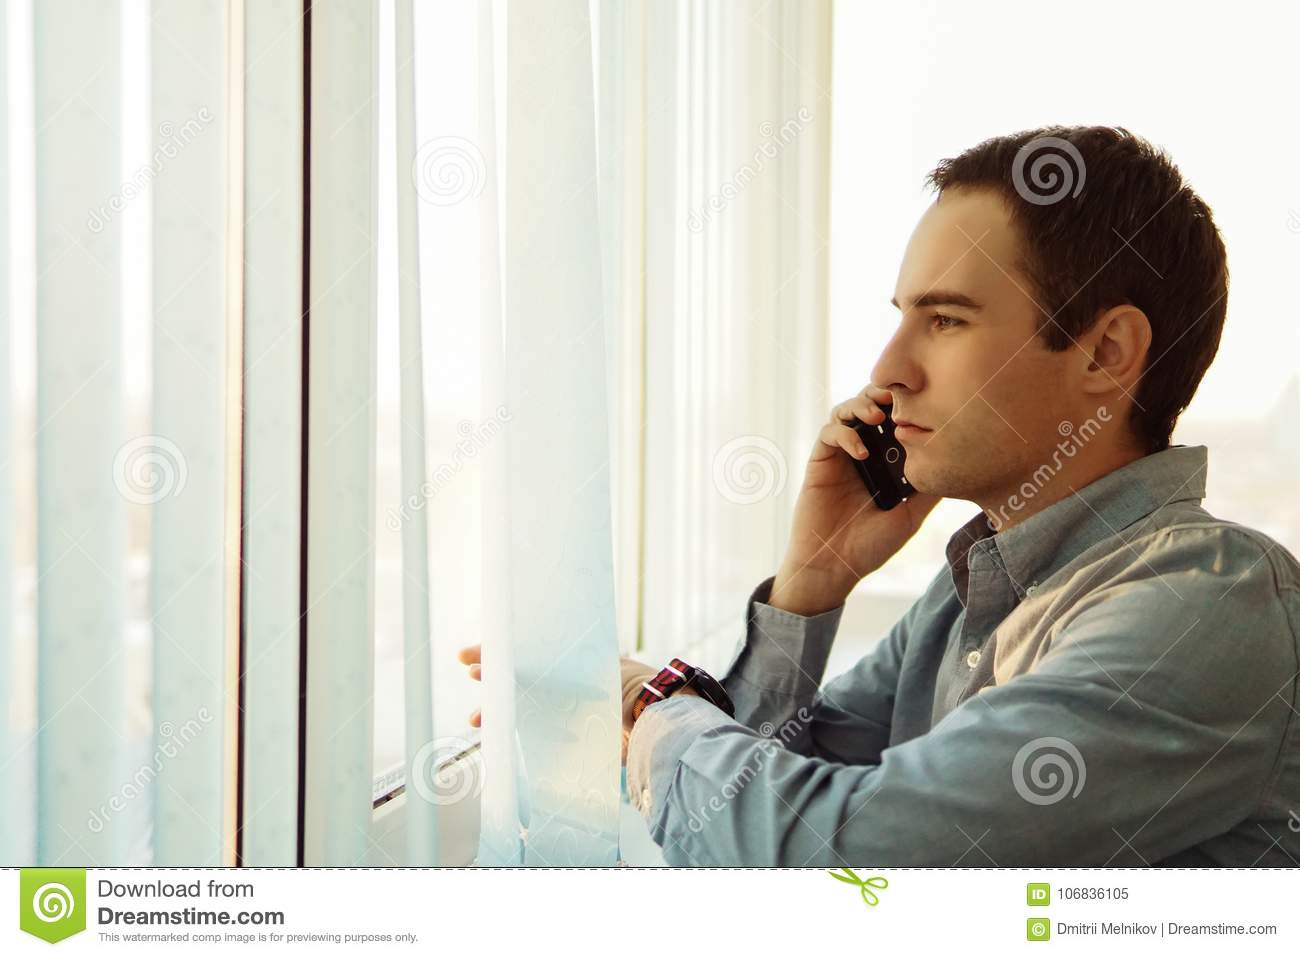talk: (791, 261, 1015, 599)
